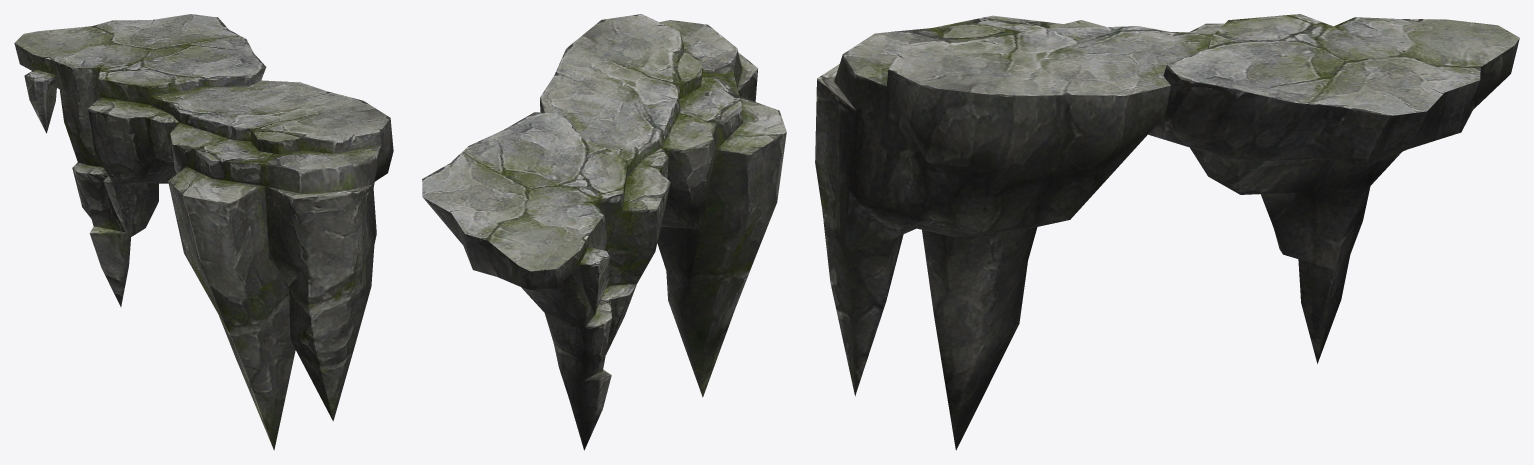
File: dx_shitou_8.FBX
3 renders of one model, left to right at view 1: azimuth 30°, elevation 25°; view 2: azimuth 150°, elevation 25°; view 3: azimuth 270°, elevation 25°, orthographic. The views are drawn at different scales.
Parts seen in each view (by area): view 1: dx_shitou_8; view 2: dx_shitou_8; view 3: dx_shitou_8.
Part boxes in pixels (x1,y1,x2,y2): dx_shitou_8: [14, 14, 393, 450]; dx_shitou_8: [422, 14, 786, 450]; dx_shitou_8: [815, 14, 1519, 450].
Bounding box in the file's own units: 301 × 469 × 687.
